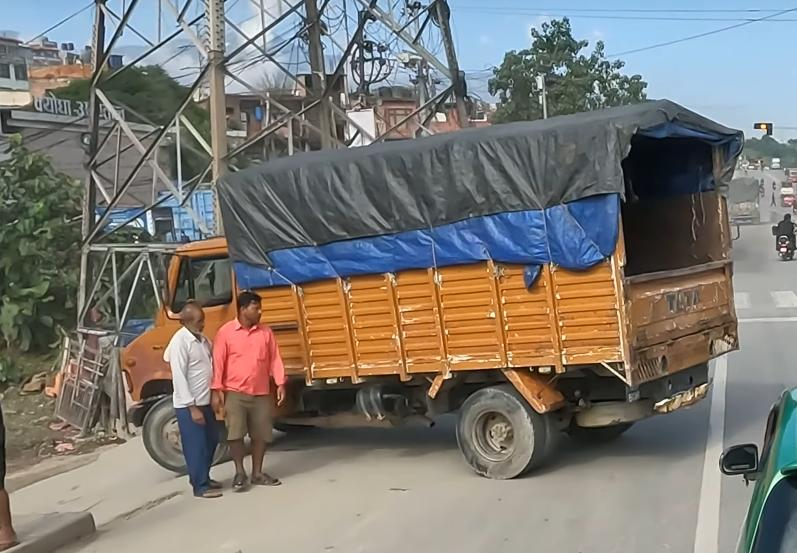mini_truck: (117, 92, 749, 491)
scooter: (768, 212, 797, 271)
truck: (724, 170, 764, 234)
